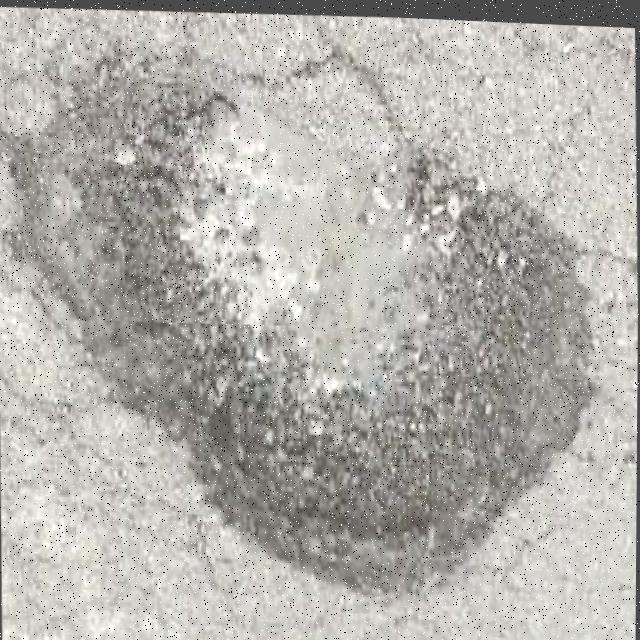pothole: (10, 41, 605, 616)
